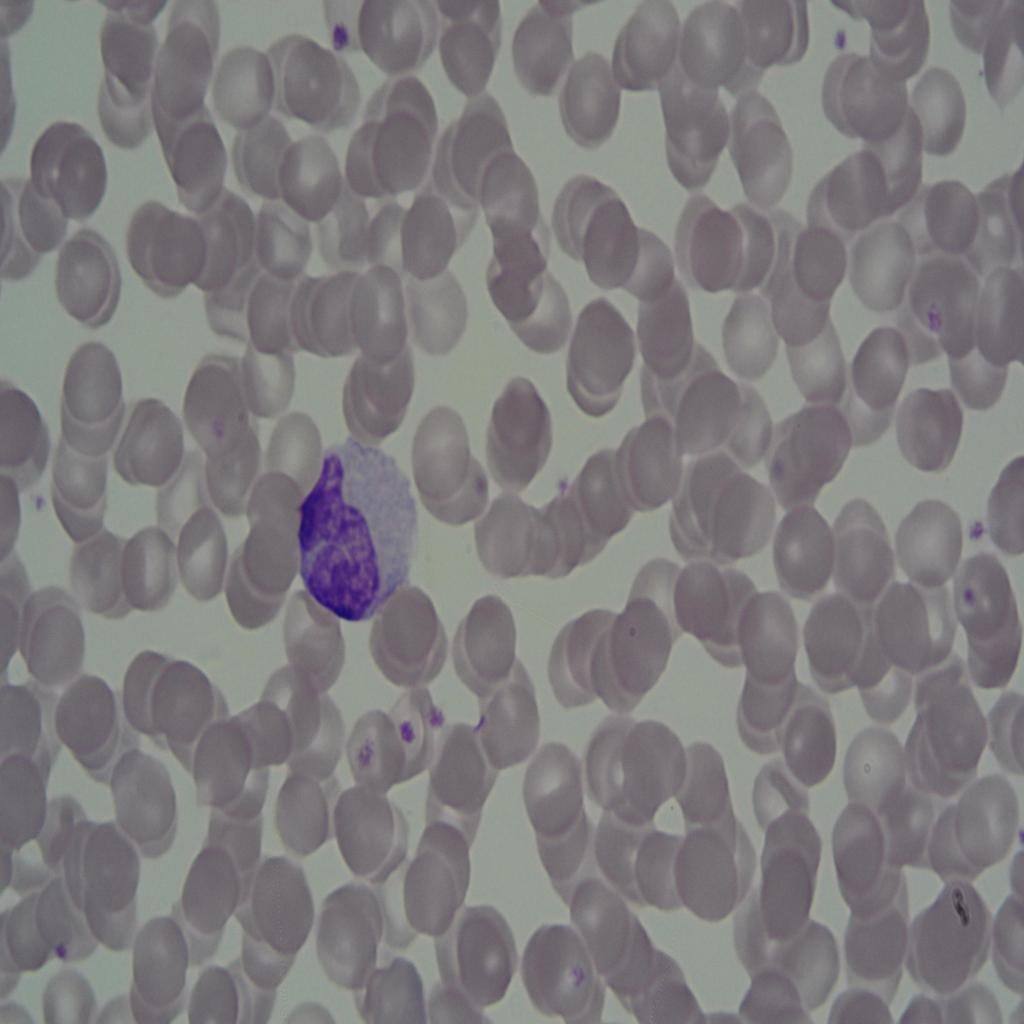Myeoblast: (295, 432, 414, 624)
Platelet: (963, 507, 1004, 570), (326, 16, 368, 72), (344, 714, 379, 774), (392, 711, 428, 758), (916, 295, 954, 336), (31, 489, 61, 537), (425, 692, 451, 738), (824, 33, 860, 66), (960, 570, 985, 616), (468, 455, 489, 502), (557, 474, 582, 504)
